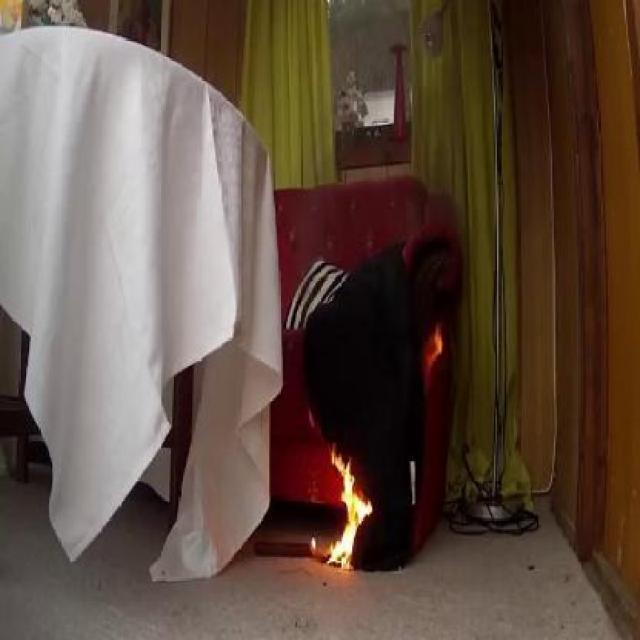fire: (305, 386, 384, 594)
